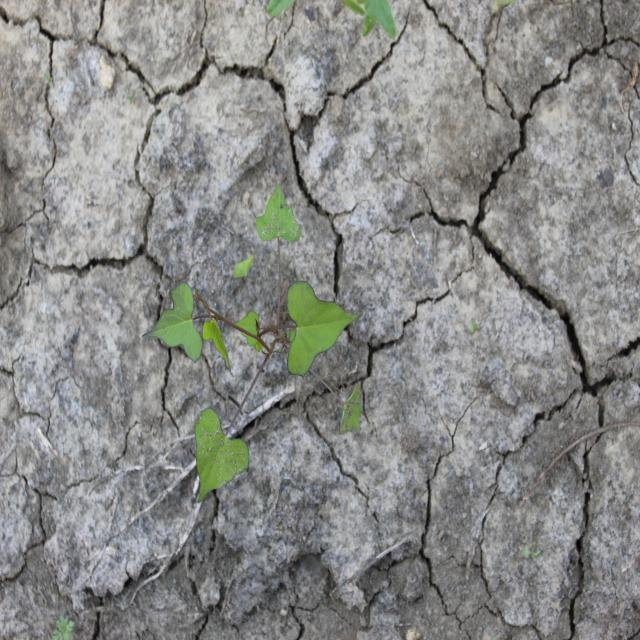MorningGlory: (140, 179, 366, 506)
